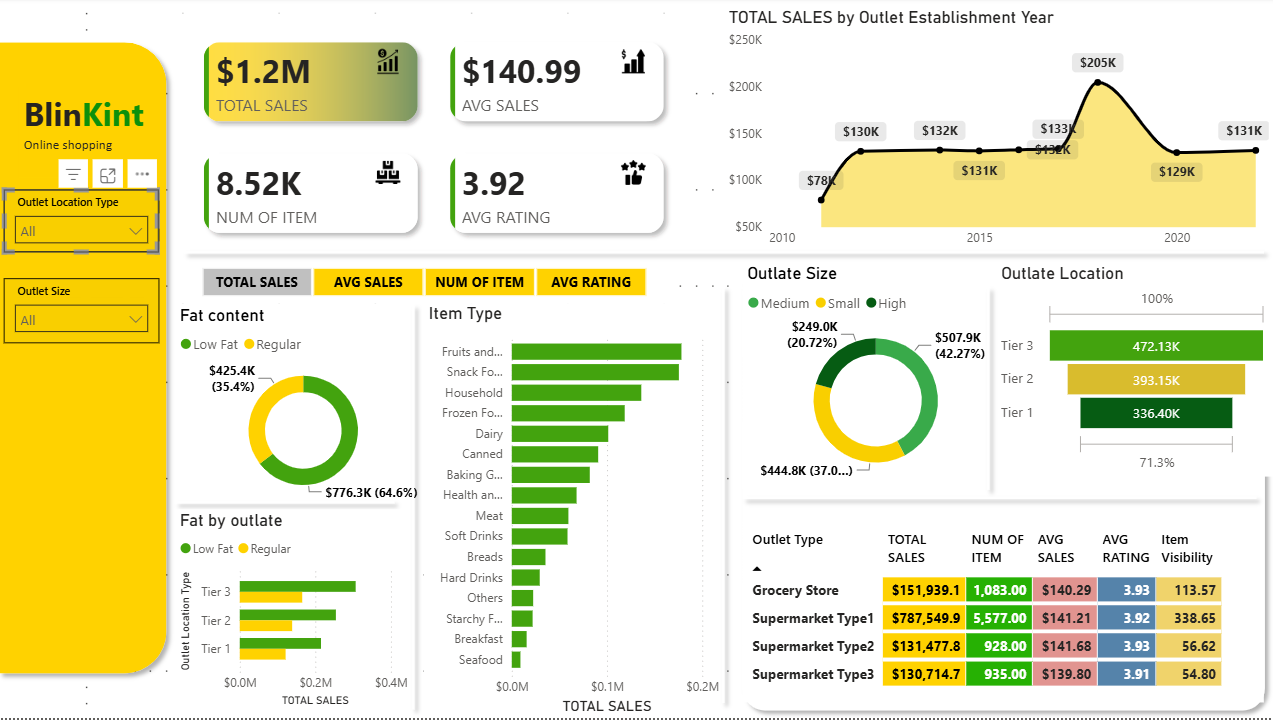

What the dashboard file says about the page in this screenshot:
{"tool":"powerbi","page":{"name":"Page 1","canvas":[1280,720],"ordinal":0},"visuals":[{"type":"shape","box":[0,36.2,185,647.5],"z":0},{"type":"textbox","box":[28.8,90,145,90],"z":1000},{"type":"cardVisual","fields":{"Data":["BlinkIT Grocery Data.TOTAL SALES","BlinkIT Grocery Data.AVG SALES","BlinkIT Grocery Data.NUM OF ITEM","BlinkIT Grocery Data.AVG RATING"]},"box":[185,16.2,516.2,248.8],"z":2000},{"type":"donutChart","title":"Fat content","fields":{"Y":["BlinkIT Grocery Data.TOTAL SALES"],"Category":["BlinkIT Grocery Data.Item Fat Content"]},"box":[185,306.2,256.2,202.5],"z":3000},{"type":"slicer","fields":{"Values":["metrics.metrics"]},"box":[186.2,262.5,492.5,42.5],"z":4000},{"type":"clusteredBarChart","title":"Fat by outlate","fields":{"Y":["BlinkIT Grocery Data.TOTAL SALES"],"Category":["BlinkIT Grocery Data.Outlet Location Type"],"Series":["BlinkIT Grocery Data.Item Fat Content"]},"box":[185,511.2,237.5,201.2],"z":5000},{"type":"shape","box":[176.2,495,236.2,16.2],"z":6000},{"type":"clusteredBarChart","title":"Item Type","fields":{"Y":["BlinkIT Grocery Data.TOTAL SALES"],"Category":["BlinkIT Grocery Data.Item Type"]},"box":[432.5,305,300,415],"z":7000},{"type":"shape","box":[741.2,258.8,538.8,461.2],"z":8000},{"type":"lineChart","fields":{"Y":["BlinkIT Grocery Data.TOTAL SALES"],"Category":["BlinkIT Grocery Data.Outlet Establishment Year"]},"box":[731.4,10.5,548.8,248.8],"z":9000},{"type":"donutChart","title":"Outlate Size","fields":{"Category":["BlinkIT Grocery Data.Outlet Size"],"Y":["BlinkIT Grocery Data.TOTAL SALES"]},"box":[750,265,266.2,225],"z":10000},{"type":"shape","box":[720,280,21.2,432.5],"z":11000},{"type":"shape","box":[185,230,1095,50],"z":12000},{"type":"funnel","title":"Outlate Location","fields":{"Category":["BlinkIT Grocery Data.Outlet Location Type"],"Y":["Sum(BlinkIT Grocery Data.Sales)"]},"box":[1003.8,265,276.2,212.5],"z":13000},{"type":"shape","box":[412.5,297.5,18.8,421.2],"z":14000},{"type":"shape","box":[985,280,21.2,220],"z":15000},{"type":"shape","box":[741.2,378.8,530,241.2],"z":16000},{"type":"pivotTable","fields":{"Rows":["BlinkIT Grocery Data.Outlet Type"],"Values":["BlinkIT Grocery Data.TOTAL SALES","BlinkIT Grocery Data.NUM OF ITEM","BlinkIT Grocery Data.AVG SALES","BlinkIT Grocery Data.AVG RATING","Sum(BlinkIT Grocery Data.Item Visibility)"]},"box":[750,523.3,519.8,180.2],"z":17000},{"type":"slicer","fields":{"Values":["BlinkIT Grocery Data.Outlet Location Type"]},"box":[13.8,192.5,155,62.5],"z":18000},{"type":"slicer","fields":{"Values":["BlinkIT Grocery Data.Outlet Size"]},"box":[13.8,280,155,65],"z":19000}]}

Visuals, with their boxes in screenshot pixels (x1, y1, x2, y2), scaled from the page's 1280x720 canvas onto the 1273x720 screenshot:
shape: left=0, top=36, right=184, bottom=684
textbox: left=29, top=90, right=173, bottom=180
cardVisual - BlinkIT Grocery Data.TOTAL SALES x BlinkIT Grocery Data.AVG SALES: left=184, top=16, right=697, bottom=265
"Fat content" donutChart: left=184, top=306, right=439, bottom=509
slicer - metrics.metrics: left=185, top=262, right=675, bottom=305
"Fat by outlate" clusteredBarChart: left=184, top=511, right=420, bottom=712
shape: left=175, top=495, right=410, bottom=511
"Item Type" clusteredBarChart: left=430, top=305, right=728, bottom=719
shape: left=737, top=259, right=1272, bottom=719
lineChart - BlinkIT Grocery Data.TOTAL SALES x BlinkIT Grocery Data.Outlet Establishment Year: left=727, top=10, right=1272, bottom=259
"Outlate Size" donutChart: left=746, top=265, right=1011, bottom=490
shape: left=716, top=280, right=737, bottom=712
shape: left=184, top=230, right=1272, bottom=280
"Outlate Location" funnel: left=998, top=265, right=1272, bottom=478
shape: left=410, top=298, right=429, bottom=719
shape: left=980, top=280, right=1001, bottom=500
shape: left=737, top=379, right=1264, bottom=620
pivotTable - BlinkIT Grocery Data.Outlet Type x BlinkIT Grocery Data.TOTAL SALES: left=746, top=523, right=1263, bottom=704
slicer - BlinkIT Grocery Data.Outlet Location Type: left=14, top=192, right=168, bottom=255
slicer - BlinkIT Grocery Data.Outlet Size: left=14, top=280, right=168, bottom=345
